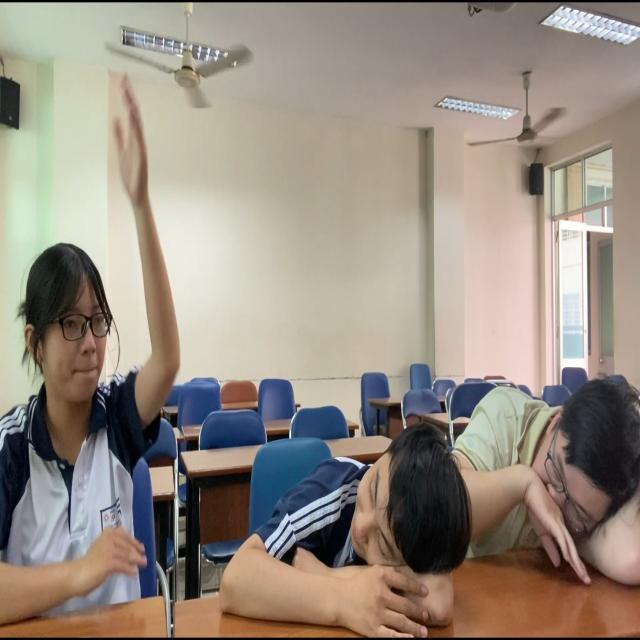raise_hand: (1, 62, 184, 640)
sleep: (223, 407, 465, 640), (452, 360, 640, 581)
